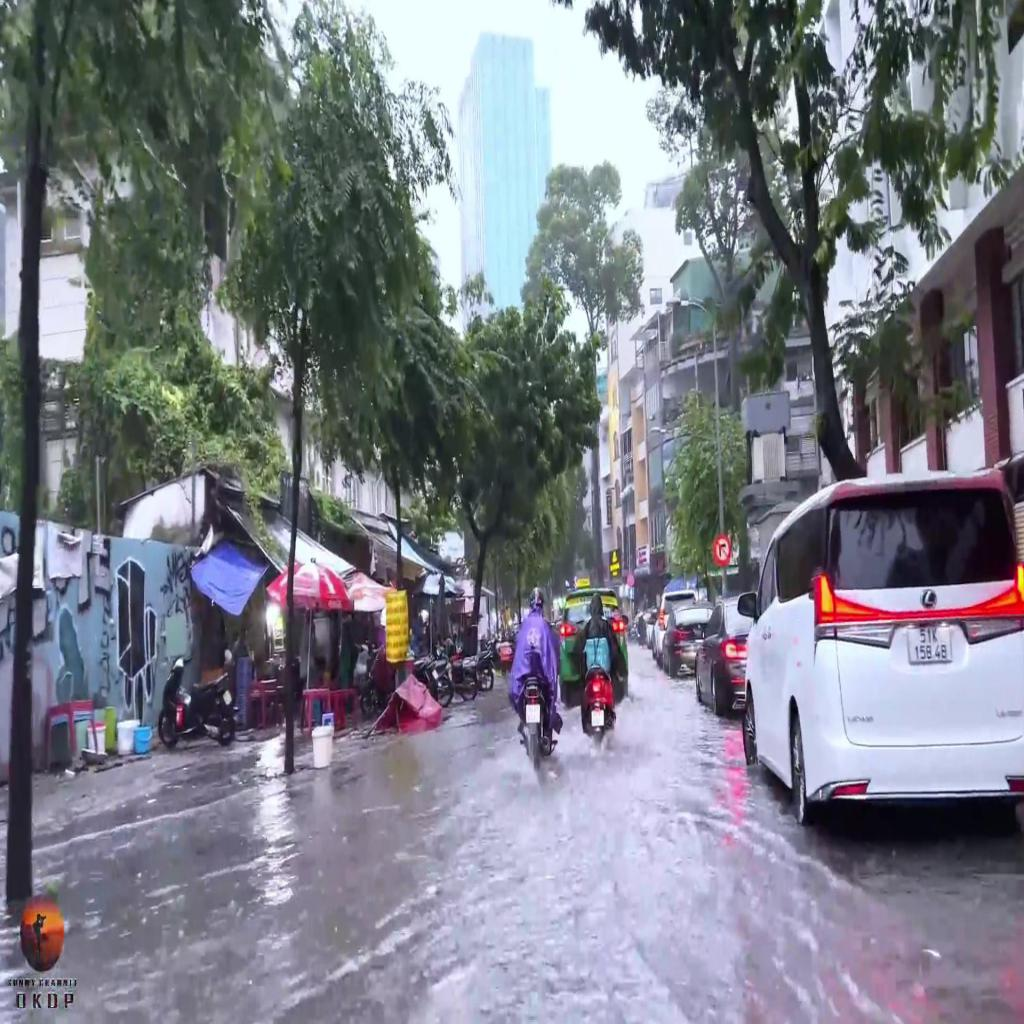cam_re_phai: (710, 528, 734, 563)
